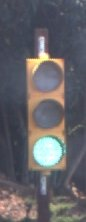Green: (17, 46, 75, 180)
